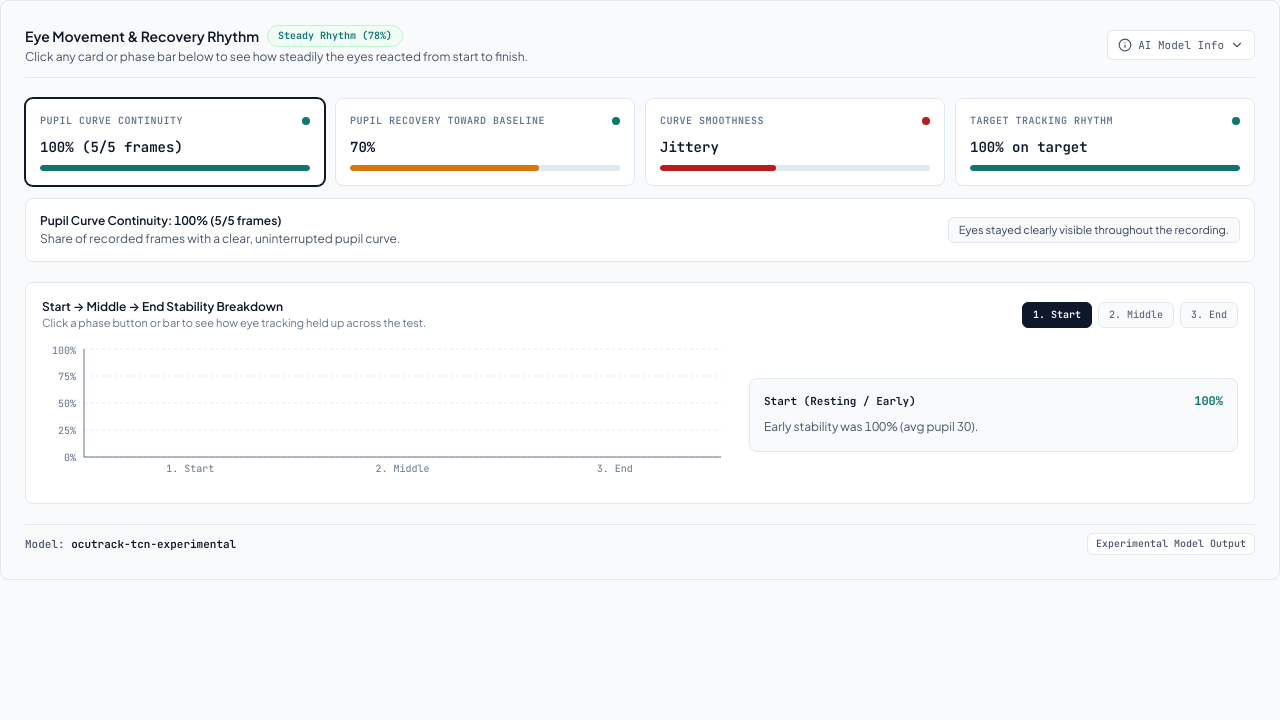
Test case: Chart components fallback states › renders interactive SequenceDynamicsSection with clickable metrics, phases, and AI info toggle
Expected: the text "Eye Movement & Recovery Rhythm" is shown, [25,26,259,46]
Expected: the text "Steady Rhythm (78%)" is shown, [267,25,403,47]
Note: Switch phase breakdown button
Click the button "2. Middle" at {"x": 1136, "y": 315}, box [1098,302,1174,328]
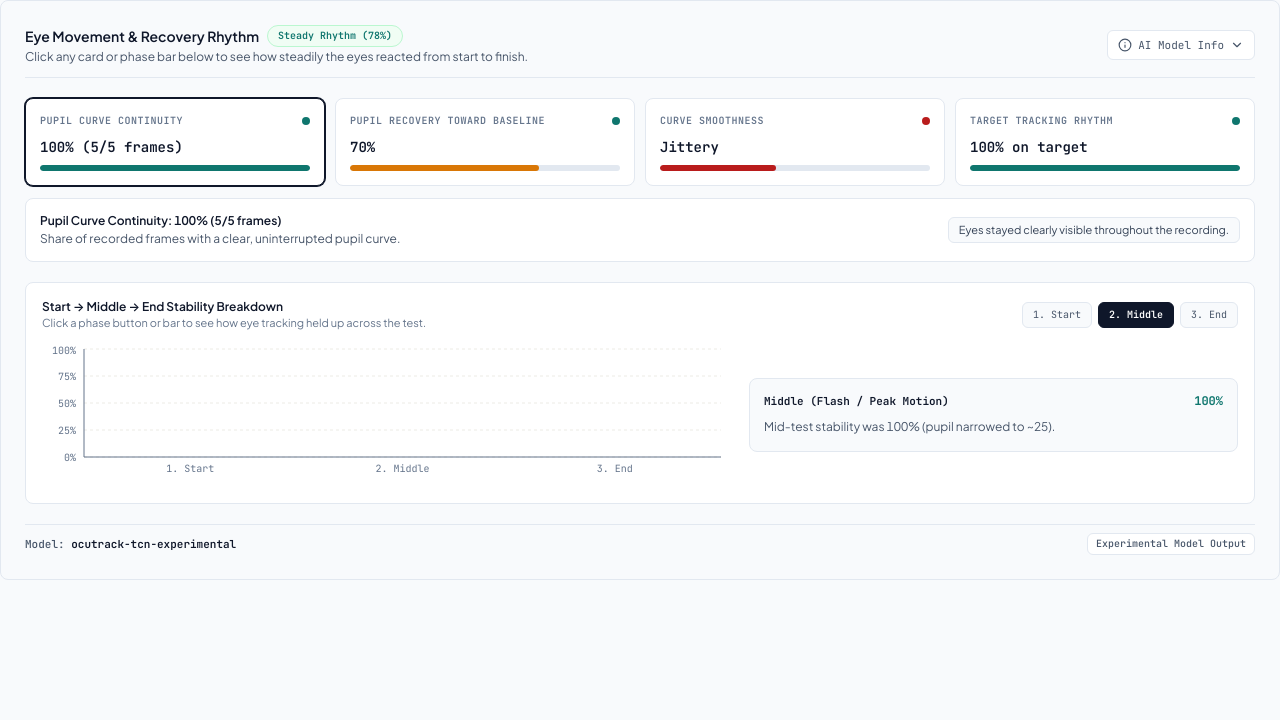
Expected: the text "Mid-test stability was 100% (pupil narrowed to ~25)." is shown, [764,419,1055,434]
Note: Expand AI Model Info drawer
Click the button "AI Model Info" at {"x": 1181, "y": 45}, box [1107,30,1255,60]
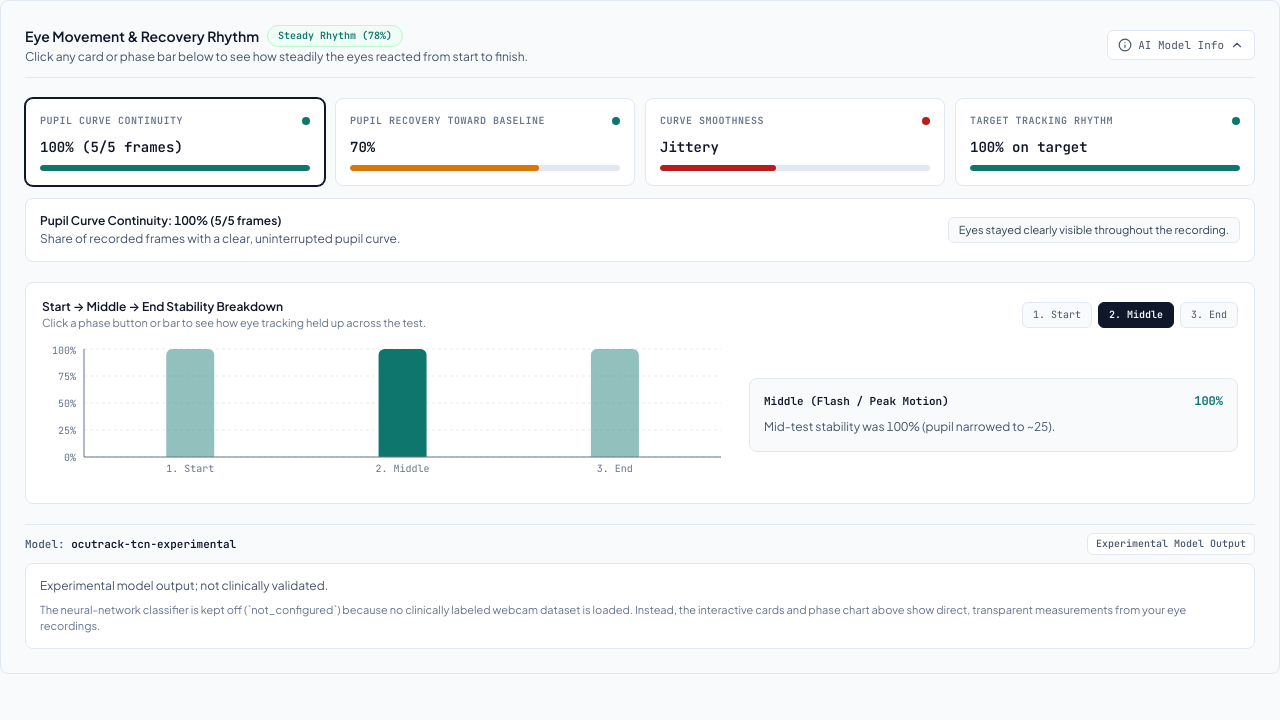
Expected: the text "Experimental model output; not clinically validated." is shown, [40,578,328,593]
